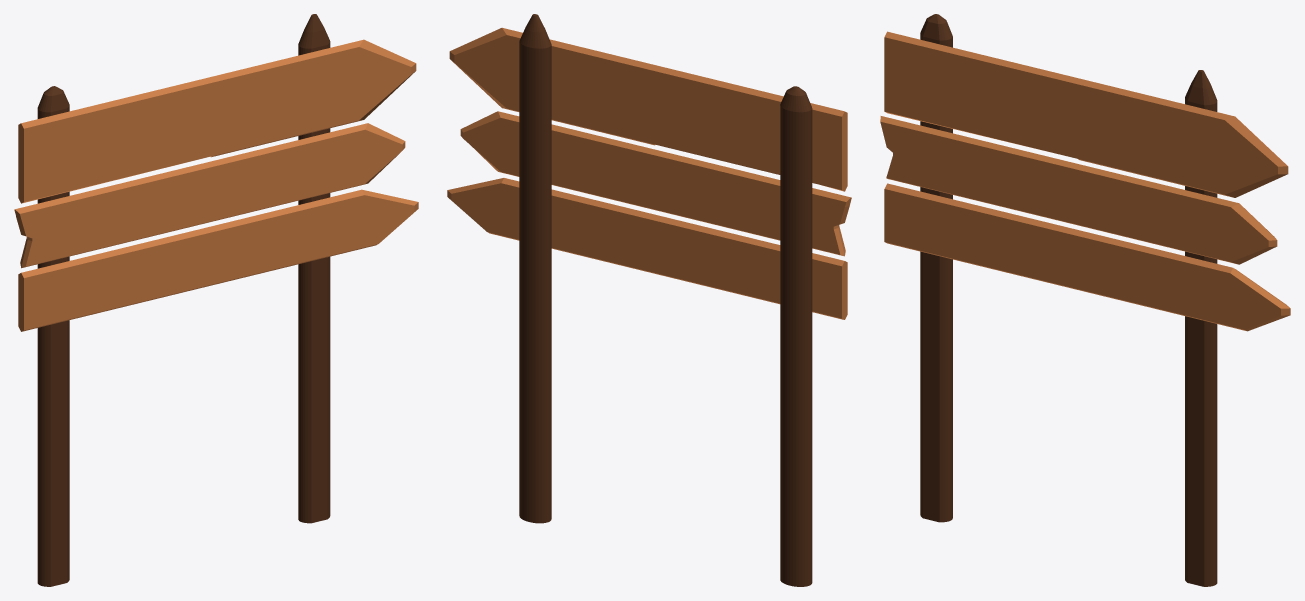
File: Sign_Post.fbx
3 renders of one model, left to right at view 1: azimuth 30°, elevation 25°; view 2: azimuth 150°, elevation 25°; view 3: azimuth 330°, elevation 25°, orthographic.
Parts seen in each view (by area): view 1: Cylinder; view 2: Cylinder; view 3: Cylinder.
Part boxes in pixels (<box>): Cylinder: <box>14,14,418,586</box>; Cylinder: <box>447,14,851,586</box>; Cylinder: <box>880,14,1290,586</box>.
Size of the model in its own units: 141 by 168 by 10.26.
